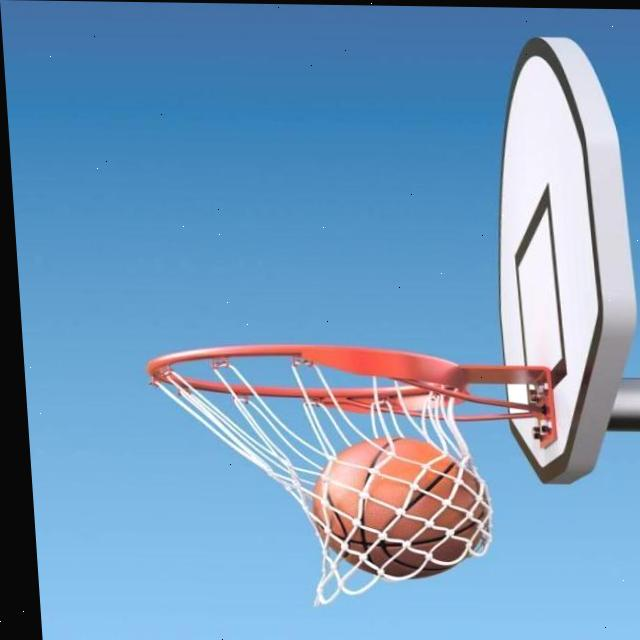Goal: (308, 436, 493, 578)
